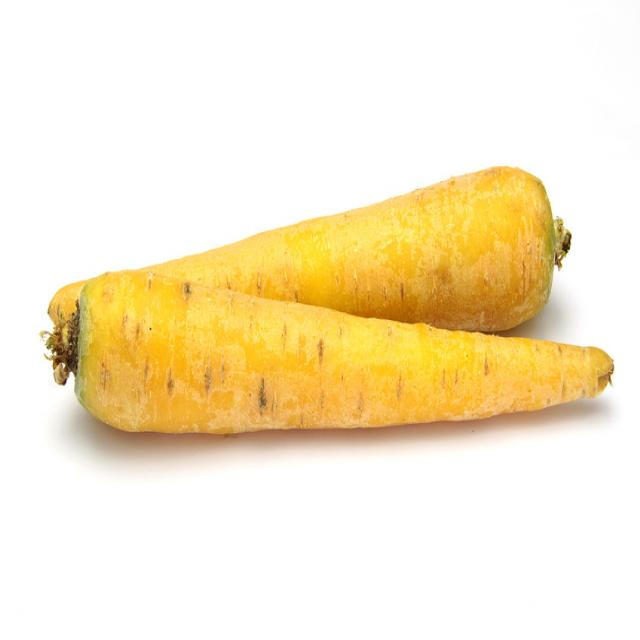Carrot: (64, 274, 613, 447), (50, 160, 570, 336)
